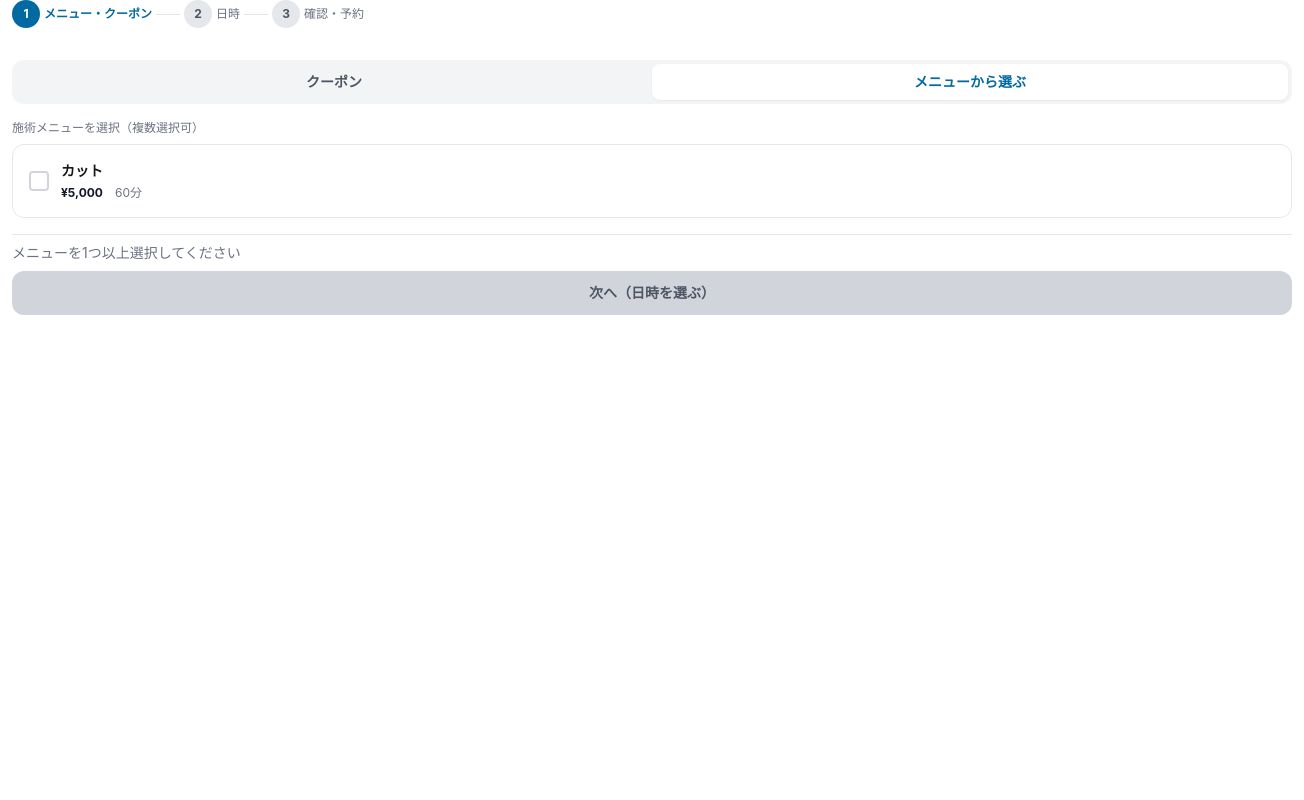
defect1: /api/slots 取得失敗の顕在化 › 非ok応答（500等）が1件でもあれば「満席」ではなく専用エラーUI＋再試行ボタンを表示する
The image size is (1304, 800).
Click the text "カット": (82, 171) 61,161 -> 103,181
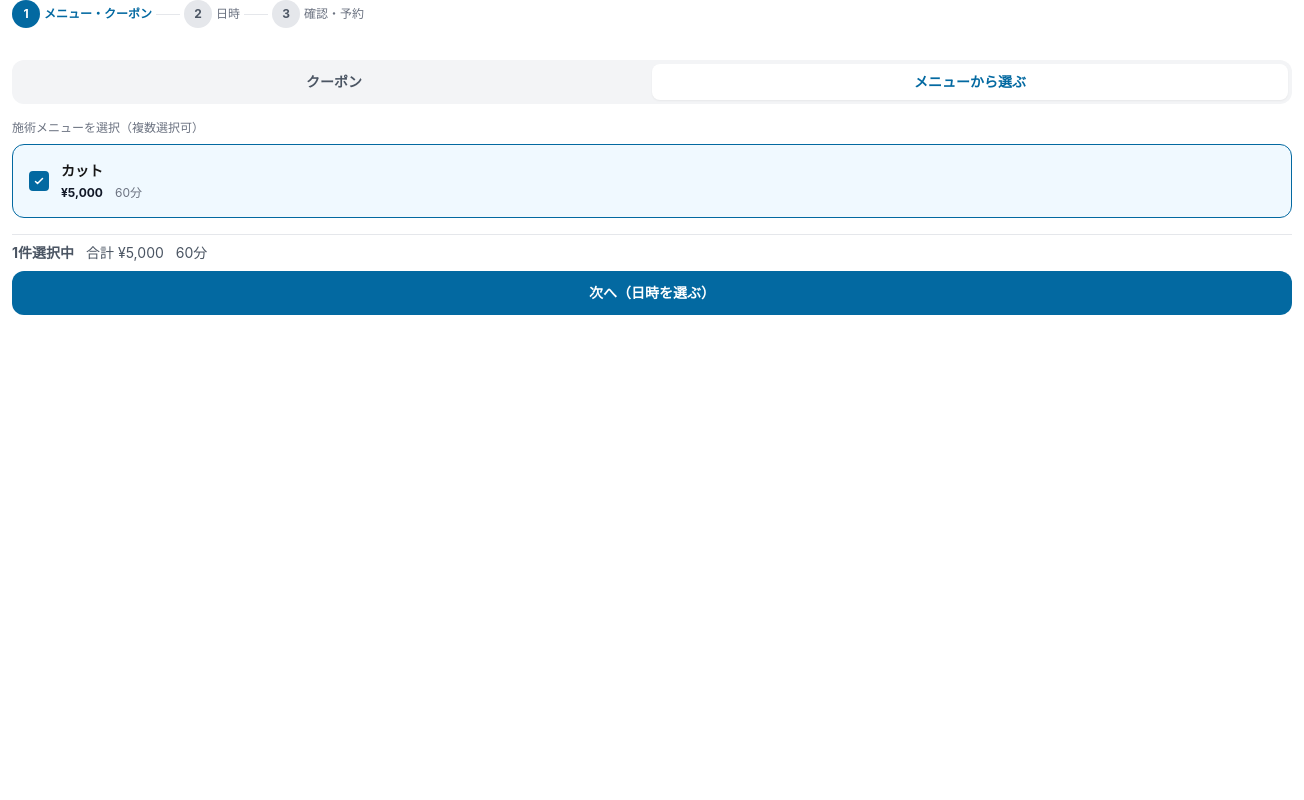
Click the button "次へ（日時を選ぶ）": (652, 293) 12,271 -> 1292,315
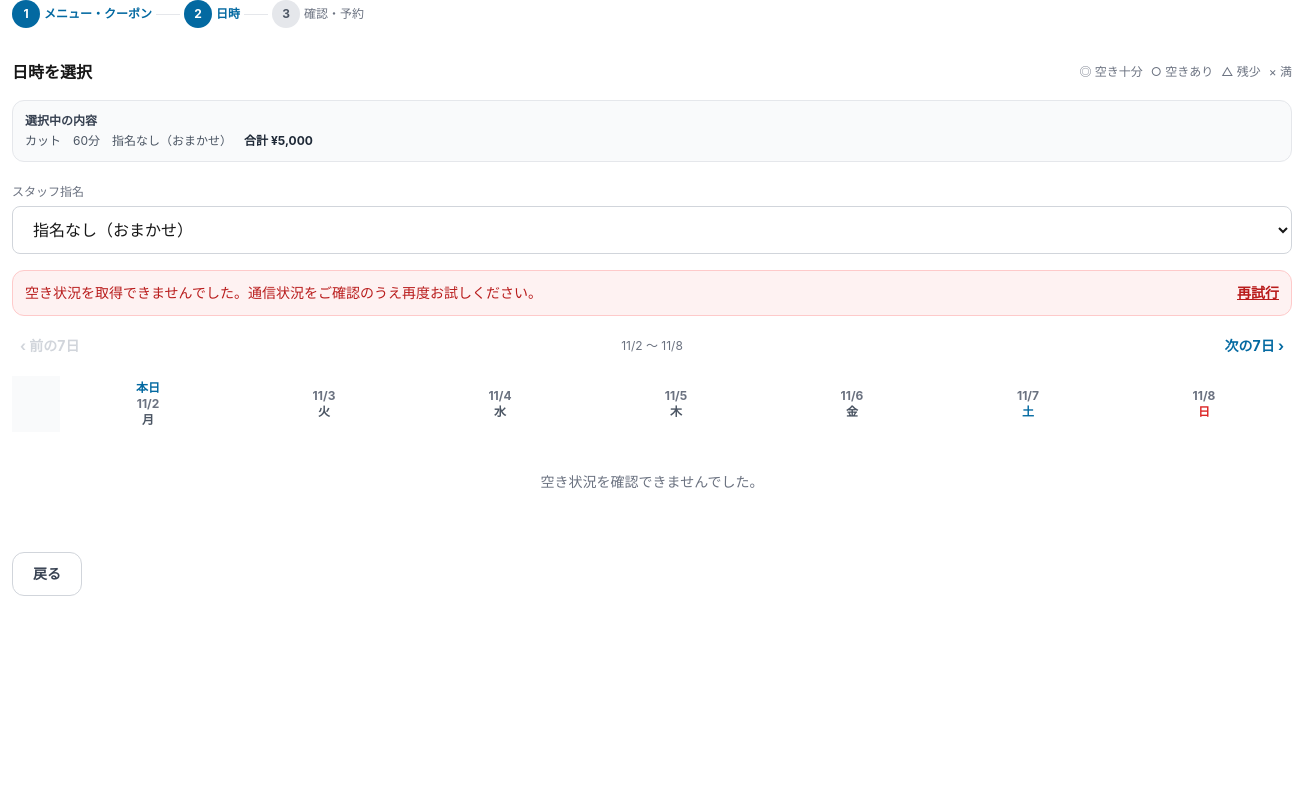
Now the text "空き状況を取得できませんでした。通信状況をご確認のうえ再度お試しください。" is shown, box 25,283 -> 542,303
Now the button "再試行" is shown, box 1237,283 -> 1279,303
